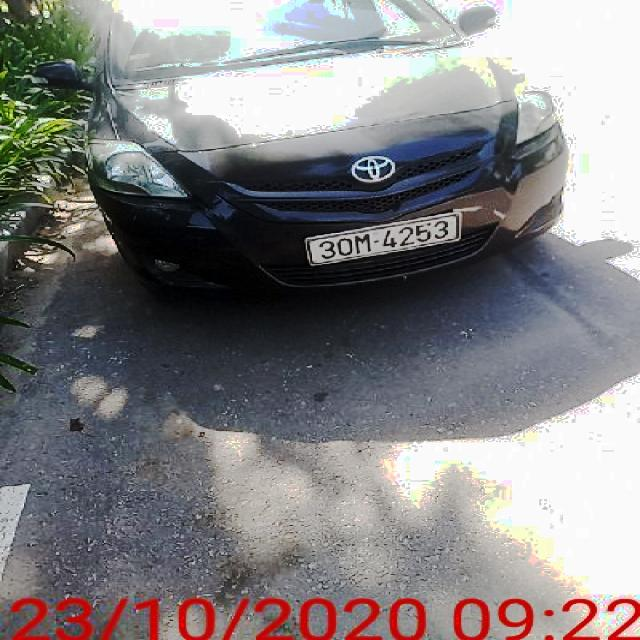license_plate: (309, 213, 460, 265)
